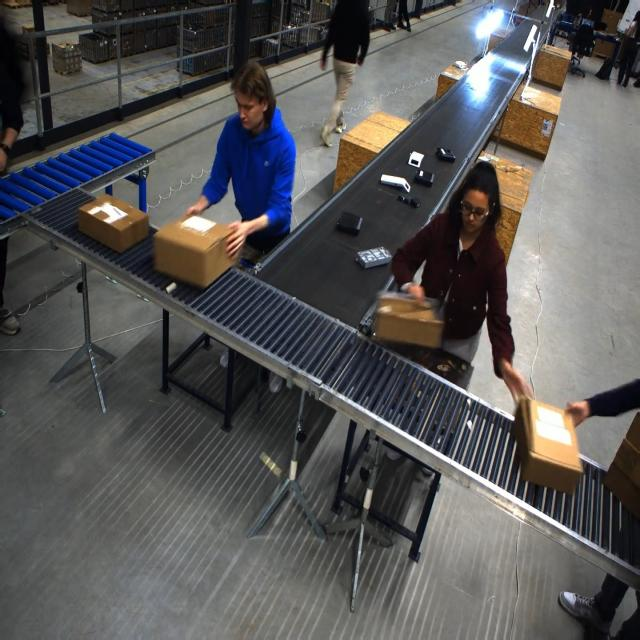box: (503, 385, 588, 492), (362, 269, 461, 360), (148, 205, 237, 286), (64, 186, 149, 254), (601, 411, 640, 520)
product: (327, 199, 365, 244), (354, 243, 392, 273), (381, 169, 411, 198), (395, 192, 431, 213), (414, 168, 435, 187), (407, 151, 424, 169), (435, 147, 455, 162)
